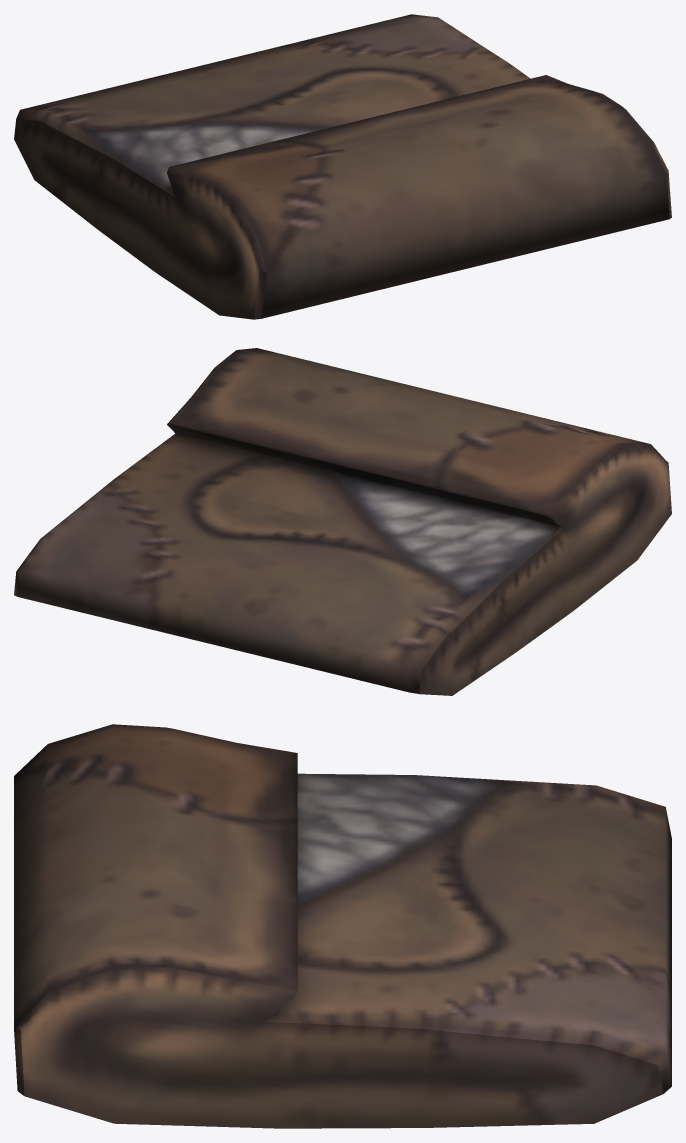
File: LS_DonnaVu_Env_Bedroll_Geo_001.FBX
3 renders of one model, top to bottom at view 1: azimuth 30°, elevation 25°; view 2: azimuth 150°, elevation 25°; view 3: azimuth 270°, elevation 25°, orthographic. The views are drawn at different scales.
Visible parts, largest first — view 1: group1_pCube2; view 2: group1_pCube2; view 3: group1_pCube2.
Boxes of the visible parts, x1,y1,x2,y2 form: group1_pCube2: (14, 14, 671, 319); group1_pCube2: (14, 348, 671, 695); group1_pCube2: (14, 724, 671, 1128).
Bounding box in the file's own units: 519 × 138 × 546.
